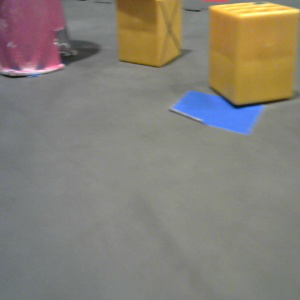middle: (1, 1, 77, 75)
